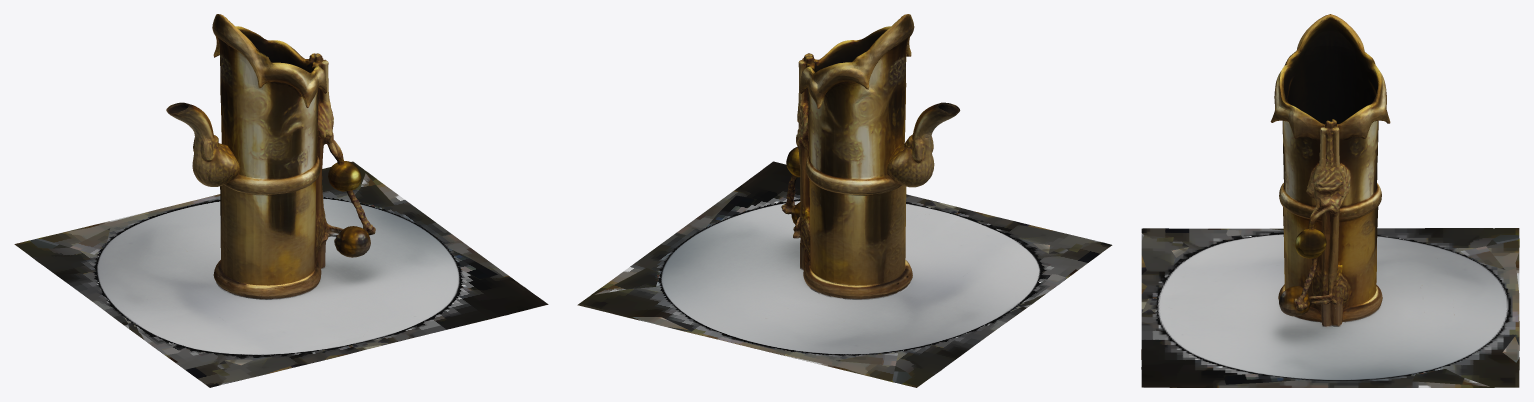
File: 银龙凤纹多穆壶.glb
The picture shows the model from 3 angles, left to right: view 1: azimuth 30°, elevation 25°; view 2: azimuth 150°, elevation 25°; view 3: azimuth 270°, elevation 25°; orthographic projection. The views are drawn at different scales.
Parts seen in each view (by area): view 1: world; view 2: world; view 3: world.
Part boxes in pixels (<box>): world: <box>14,14,548,387</box>; world: <box>577,14,1112,387</box>; world: <box>1141,14,1519,387</box>.
Bounding box in the file's own units: 1 × 0.7834 × 1.
Materials: 1 (1 with a texture image).
